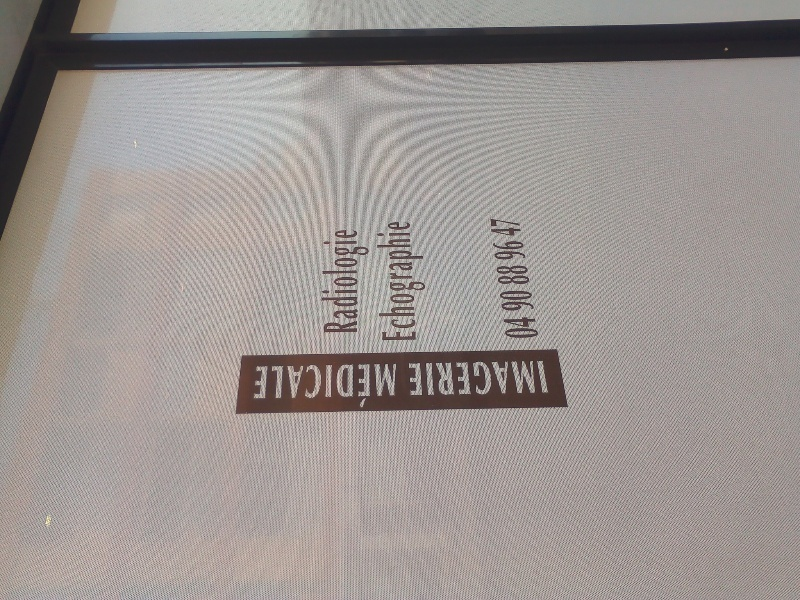text: (385, 216, 400, 343), (401, 216, 416, 343), (321, 229, 336, 336), (337, 229, 352, 336), (353, 229, 368, 336), (374, 216, 384, 343), (417, 216, 427, 343), (257, 363, 272, 411), (273, 363, 288, 411), (289, 363, 304, 411), (305, 363, 320, 411), (321, 363, 336, 411), (337, 363, 352, 411), (353, 363, 368, 411), (369, 363, 384, 411), (385, 363, 399, 411), (417, 359, 432, 397), (433, 359, 448, 397), (449, 359, 464, 397), (465, 359, 480, 397), (481, 359, 496, 397), (497, 359, 512, 397), (513, 359, 528, 397), (529, 359, 544, 397), (403, 359, 416, 397), (369, 229, 373, 336), (513, 286, 528, 314), (513, 315, 528, 342), (529, 315, 544, 342), (497, 262, 512, 288), (513, 262, 528, 288), (497, 239, 512, 265), (513, 239, 528, 265), (499, 286, 512, 314), (497, 217, 512, 240), (501, 315, 512, 342), (513, 217, 524, 240), (545, 359, 551, 397), (529, 286, 535, 314), (490, 217, 496, 240), (492, 239, 496, 265), (254, 363, 256, 411), (529, 262, 532, 288)
